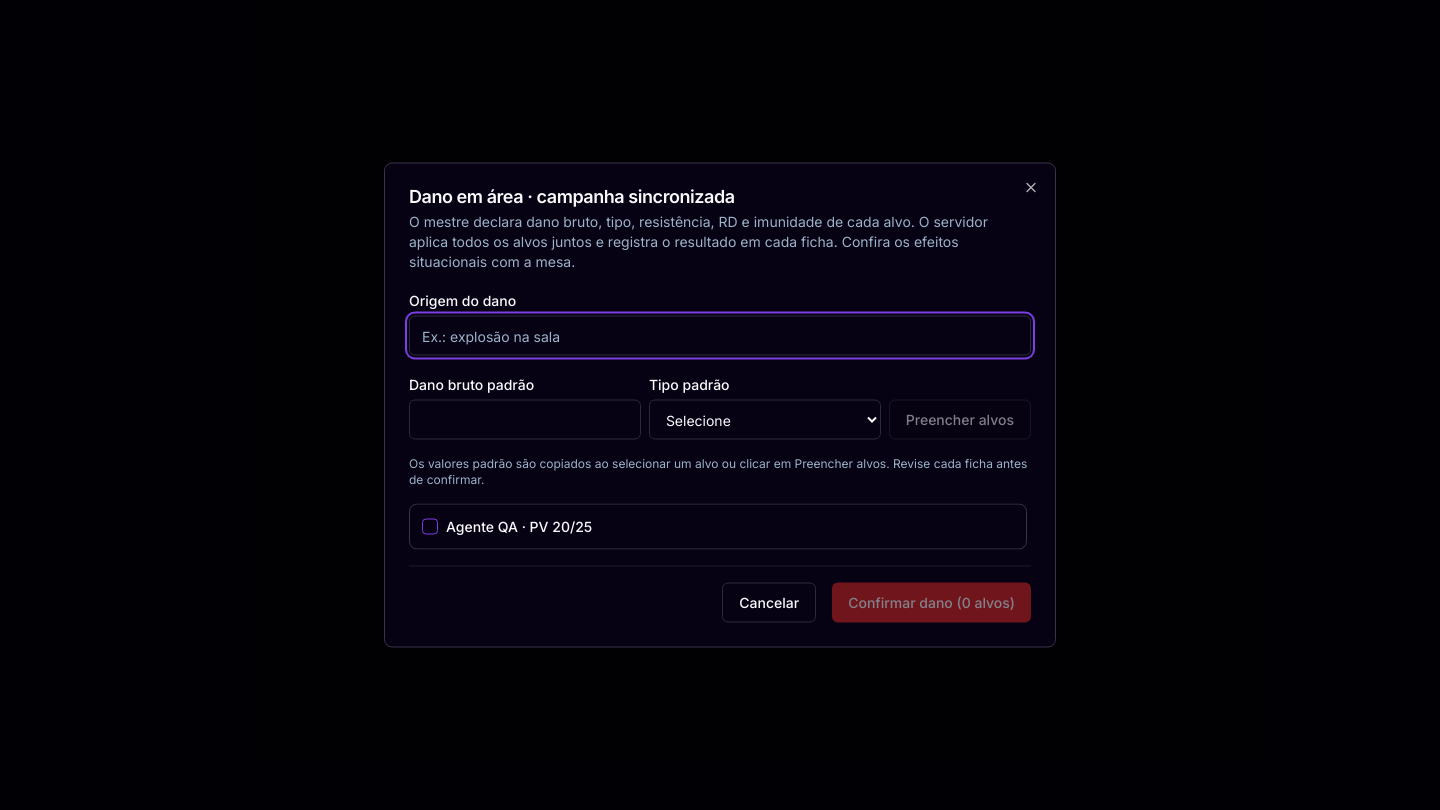
dano em área sincronizado › rejeição definitiva não mostra sucesso e libera revisão sem repetir o pedido inválido
Type "Estilhaços" into the field labelled "Origem do dano" at x=720, y=336, box left=409, top=316, right=1031, bottom=356
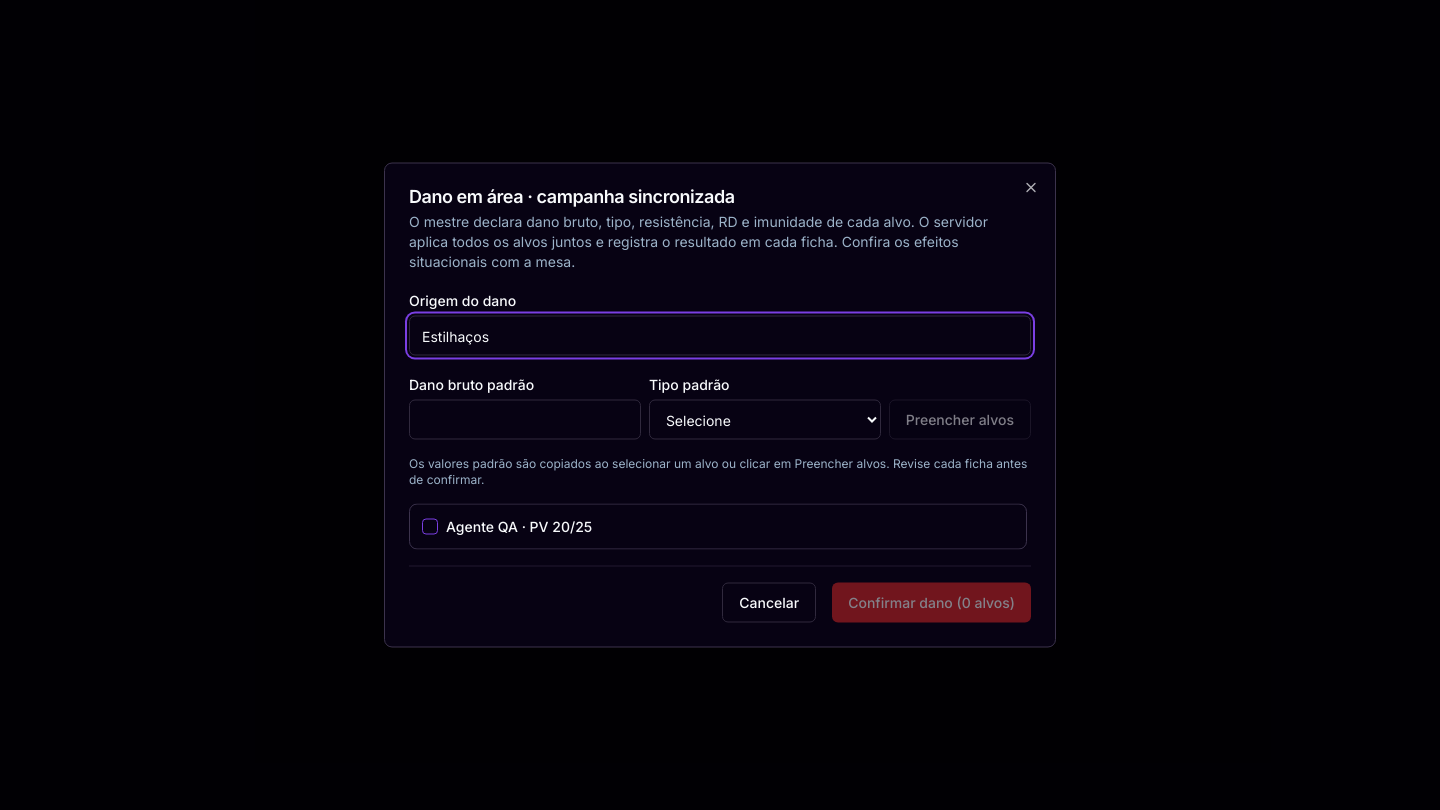
Click the checkbox named "Agente QA" at x=430, y=526, box left=422, top=518, right=438, bottom=534
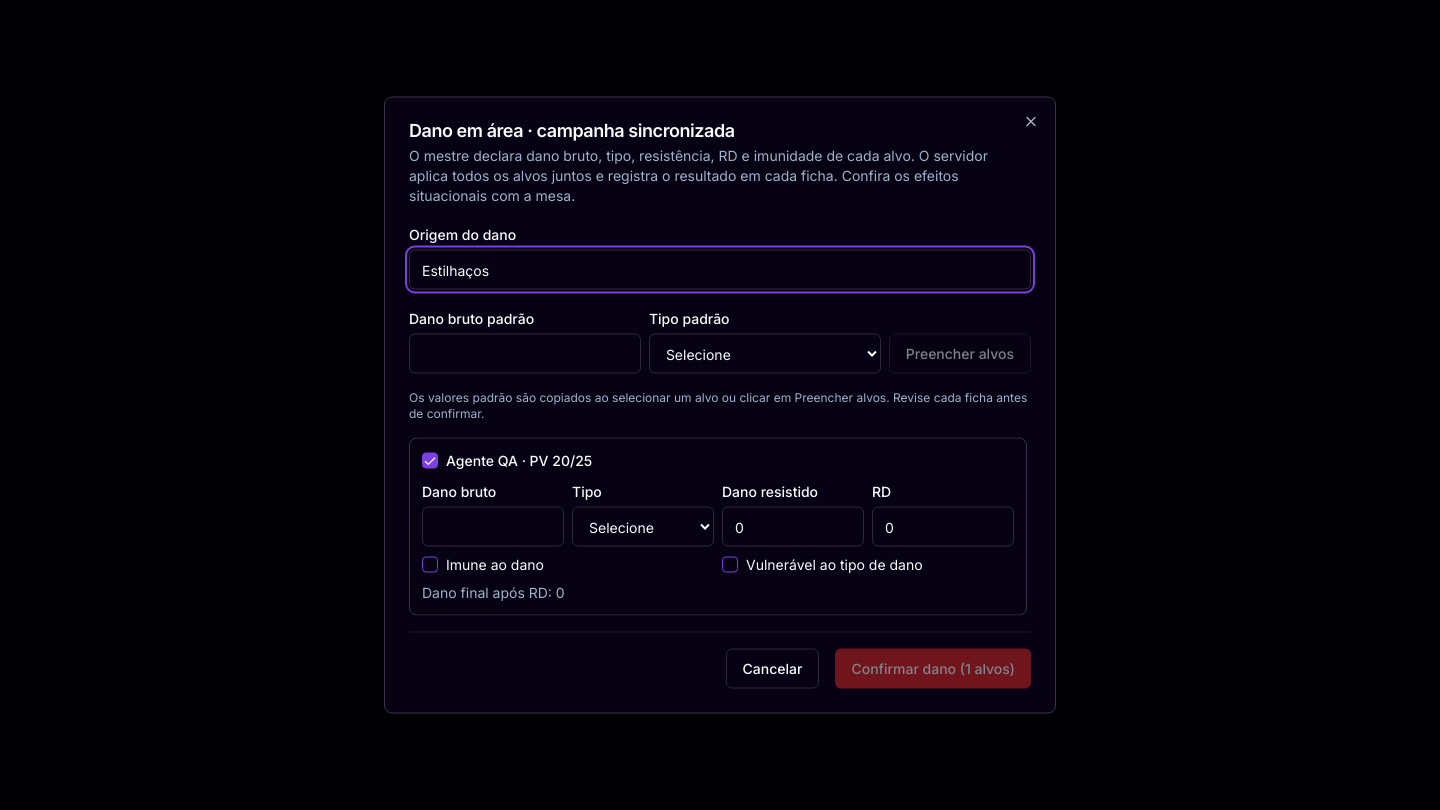
Type "8" into the number field labelled "Dano bruto" at x=493, y=526, box left=422, top=506, right=564, bottom=546
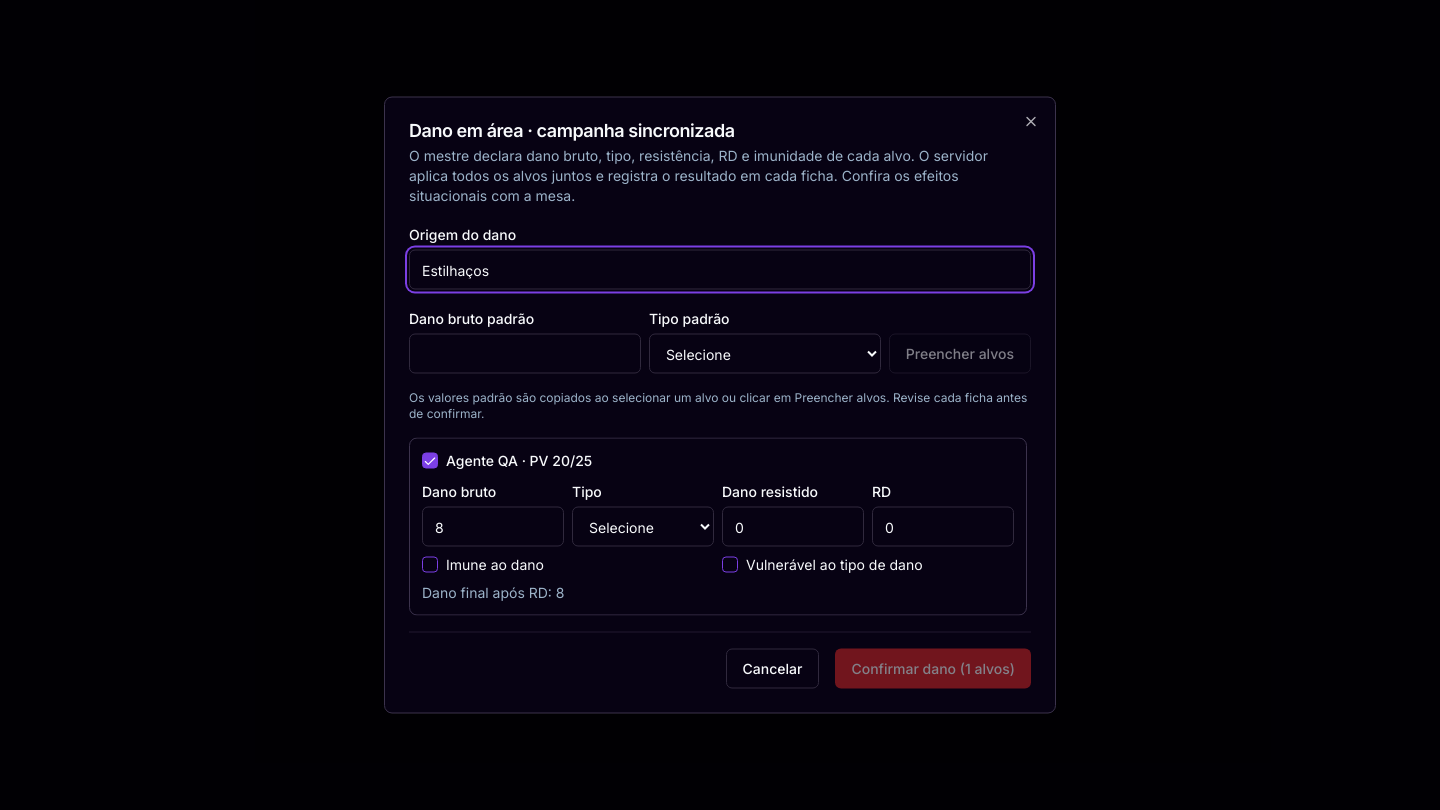
Select "corte" in the dropdown labelled "Tipo" at x=643, y=526, box left=572, top=506, right=714, bottom=546
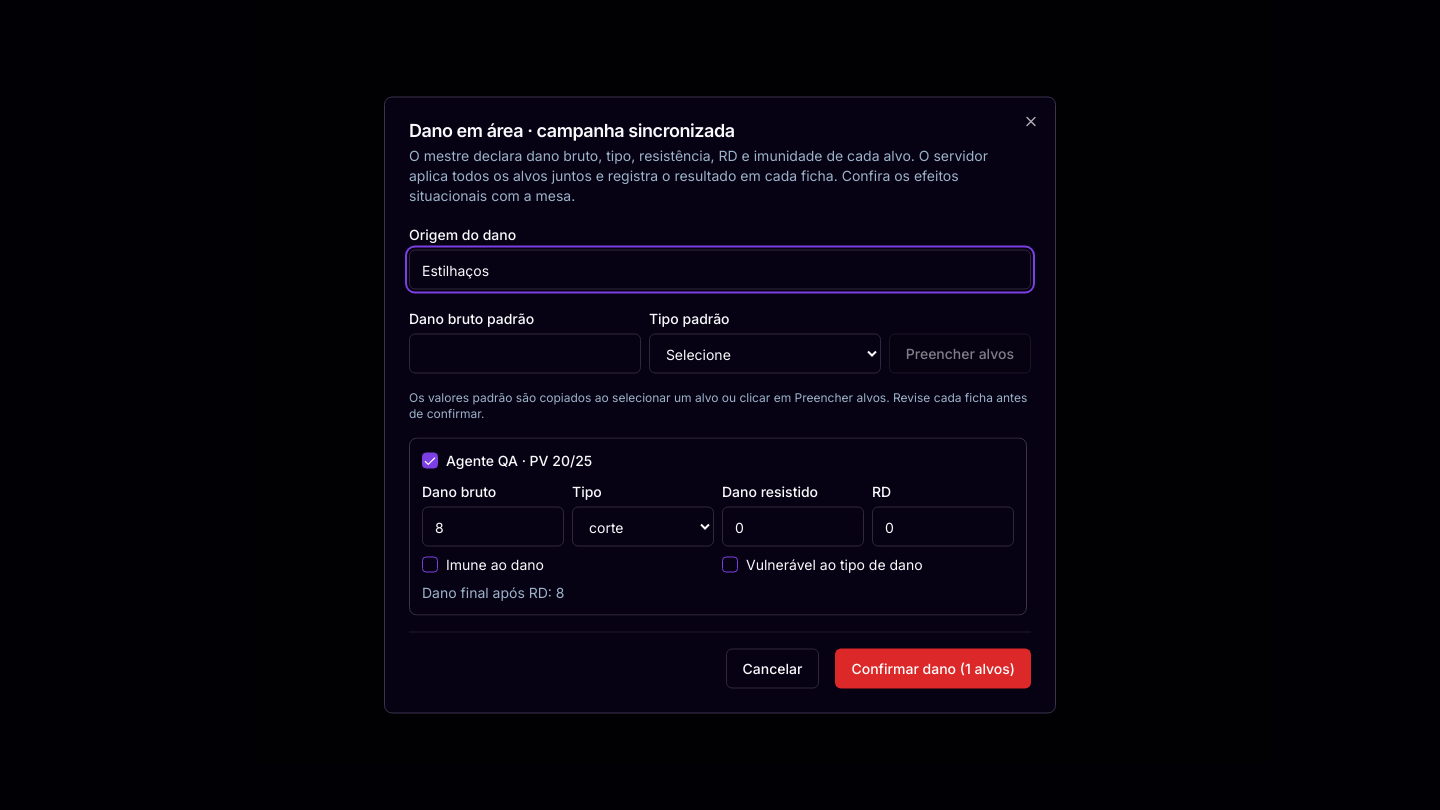
Click the button "Confirmar dano (1 alvos)" at x=933, y=668, box left=835, top=648, right=1031, bottom=688
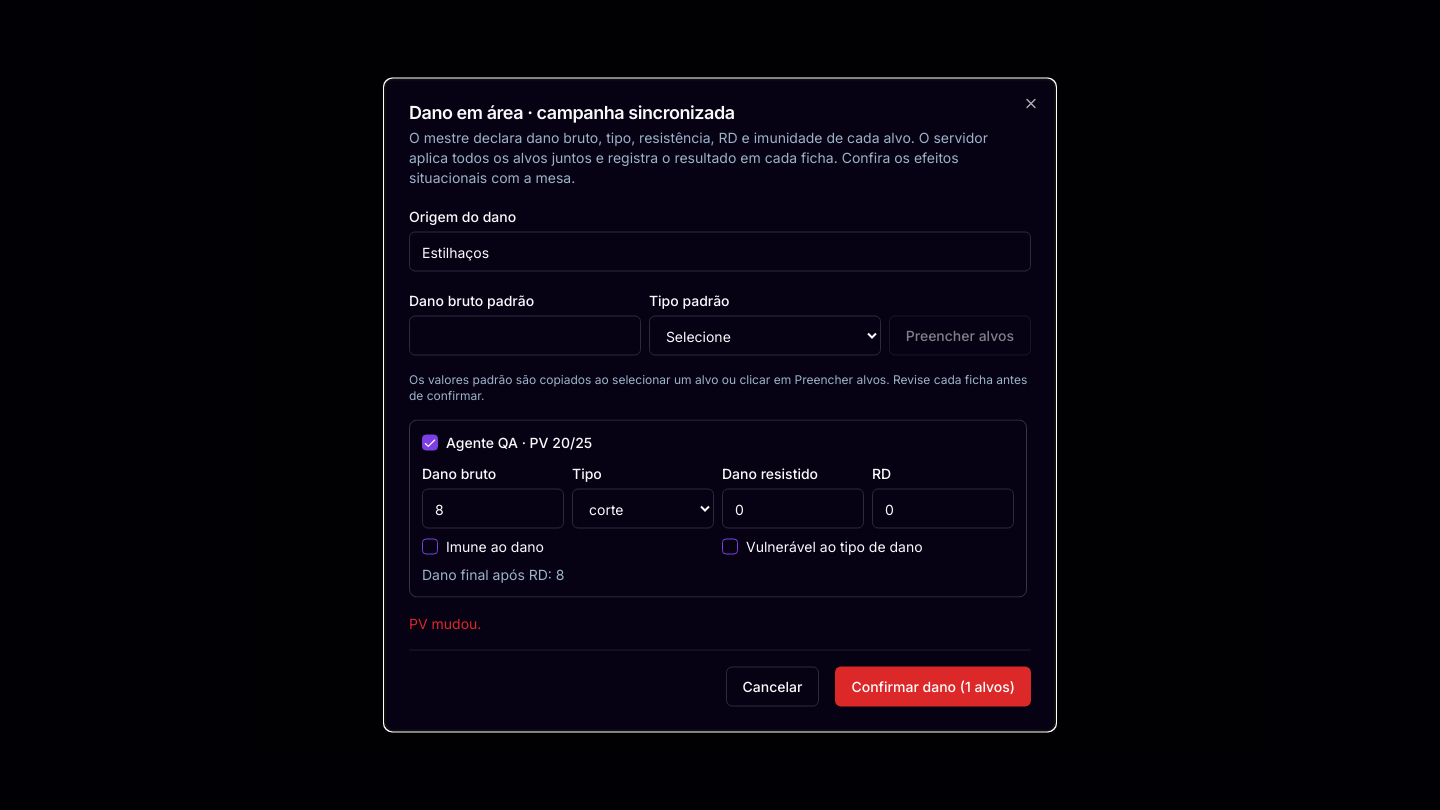
Expected: the button "Cancelar" is enabled, left=726, top=666, right=819, bottom=706
Now the number field labelled "Dano bruto" is enabled, box left=422, top=488, right=564, bottom=528
Now the message shows "PV mudou", box left=409, top=614, right=481, bottom=632
